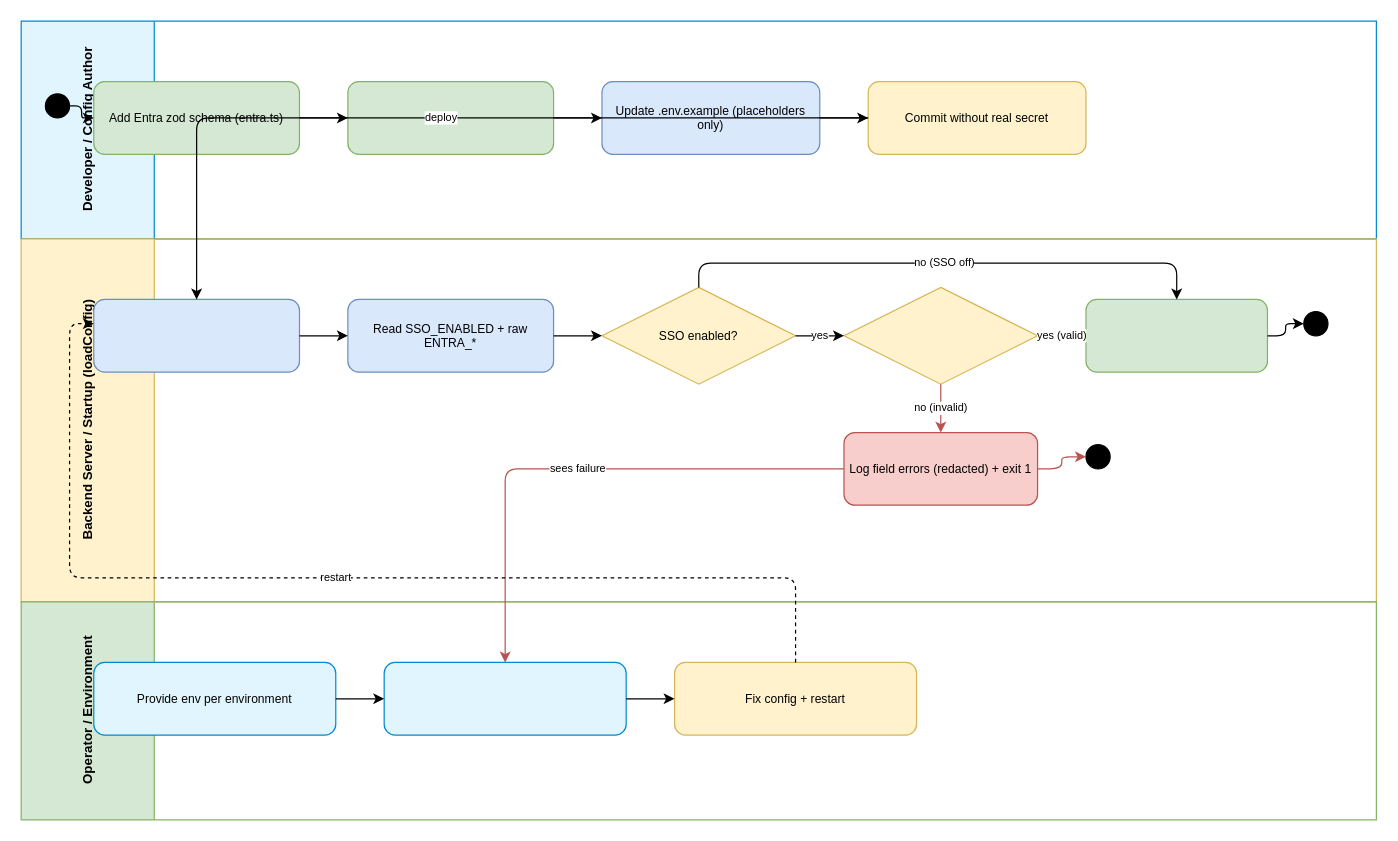
This 1398x841 diagram has some shape labels left out. Here are the shapes that lost their labels. From the top down, the centre of each, then its label:
At (450,117): "Wire into UnifiedConfigSchema".
At (196,335): "loadConfig() first in main()".
At (940,335): "Config valid?".
At (1176,335): "Continue boot (open port, init DB)".
At (504,698): "Observe startup log".
